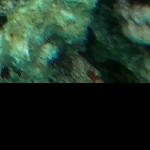dead: (3, 2, 146, 81)
